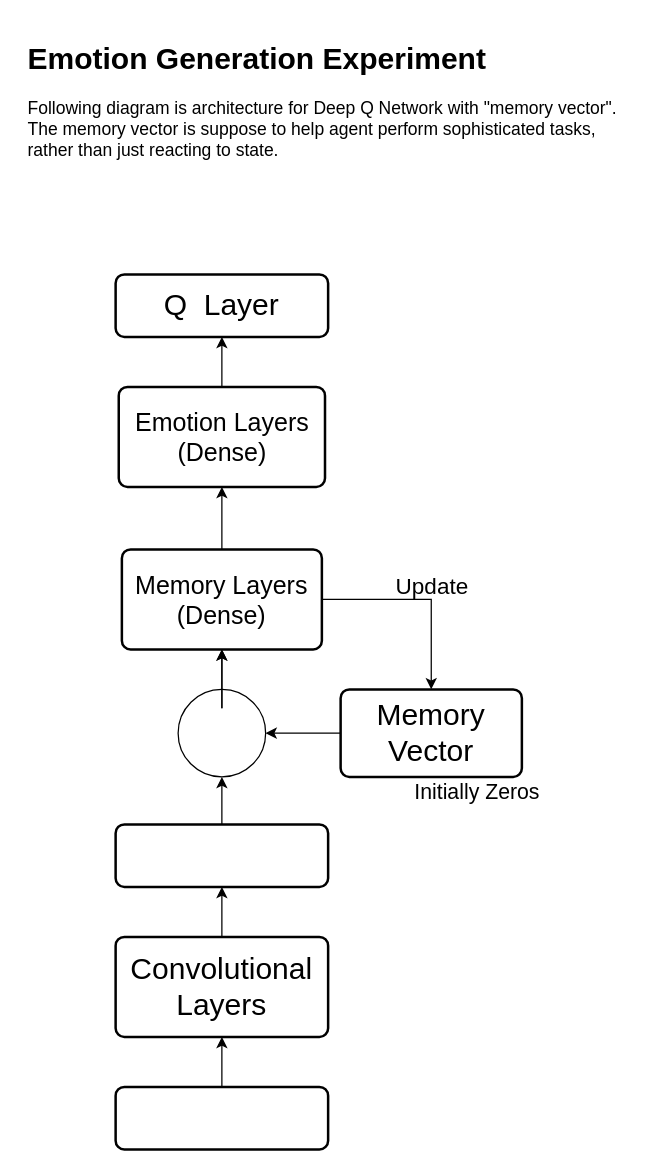
This 655x1171 diagram has some shape labels left out. The shapes that lost their labels are listed below. From the top down, each one's centre as x and y in pixels, then its label:
At (x=221, y=732): "concat".
At (x=221, y=855): "Flatten".
At (x=221, y=1117): "Input".
